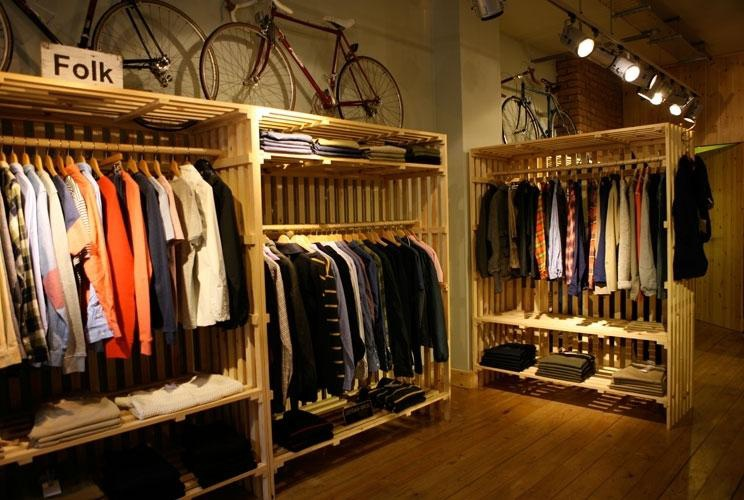non-vehicle: (199, 0, 404, 146), (0, 0, 218, 131), (500, 61, 576, 144)
